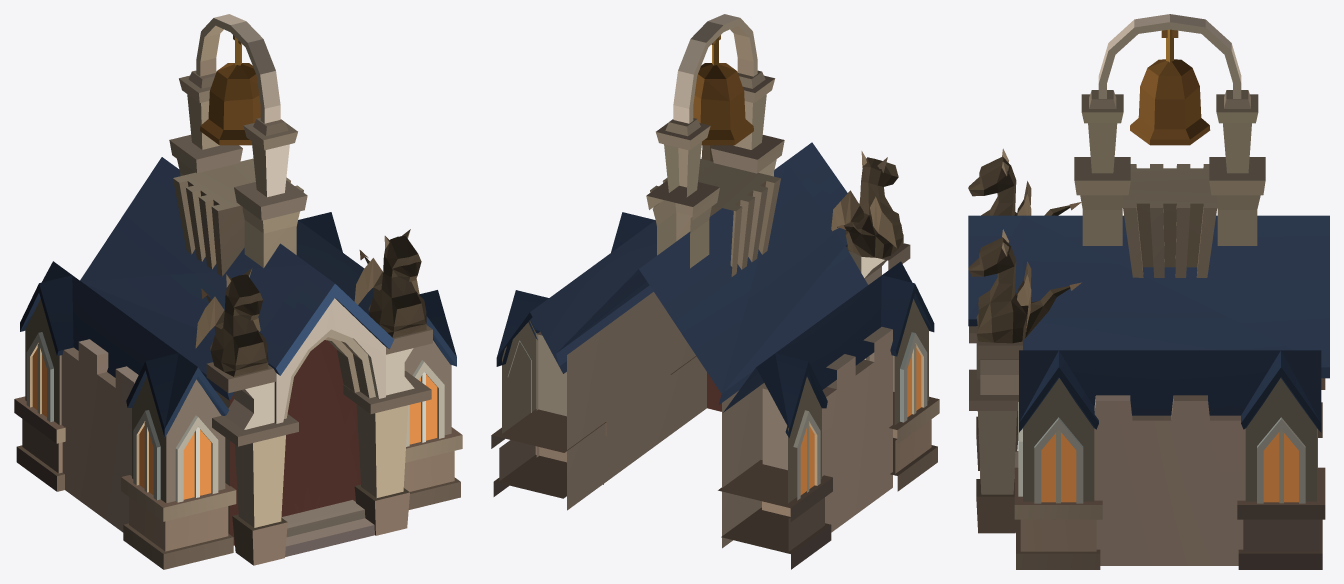
File: castle03.fbx
3 views of the same model, side by side, from view 1: azimuth 30°, elevation 25°; view 2: azimuth 150°, elevation 25°; view 3: azimuth 270°, elevation 25° (orthographic). The views are drawn at different scales.
Parts seen in each view (by area): view 1: castle03; view 2: castle03; view 3: castle03.
Part boxes in pixels (x1,y1,x2,y2): castle03: [14, 14, 462, 569]; castle03: [491, 14, 939, 569]; castle03: [968, 14, 1329, 569].
Bounding box in the file's own units: 2.01 × 2.94 × 2.02.
Materials: 1 (1 with a texture image).
